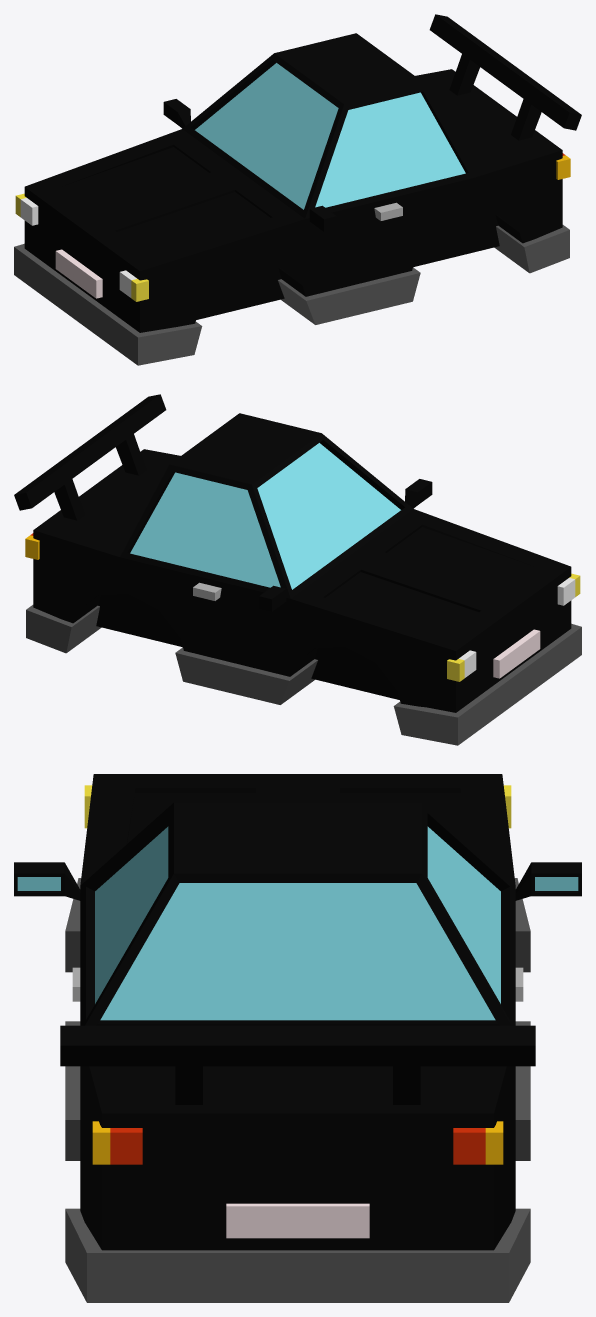
File: Car.fbx
The picture shows the model from 3 angles, top to bottom: view 1: azimuth 30°, elevation 25°; view 2: azimuth 150°, elevation 25°; view 3: azimuth 270°, elevation 25°; orthographic projection. The views are drawn at different scales.
Visible parts, largest first — view 1: Car; view 2: Car; view 3: Car.
Boxes of the visible parts, left/top/right/bottom form: Car: left=14, top=14, right=581, bottom=365; Car: left=14, top=394, right=581, bottom=745; Car: left=14, top=774, right=581, bottom=1302.
Size of the model in its own units: 2.08 by 1.32 by 3.28.
